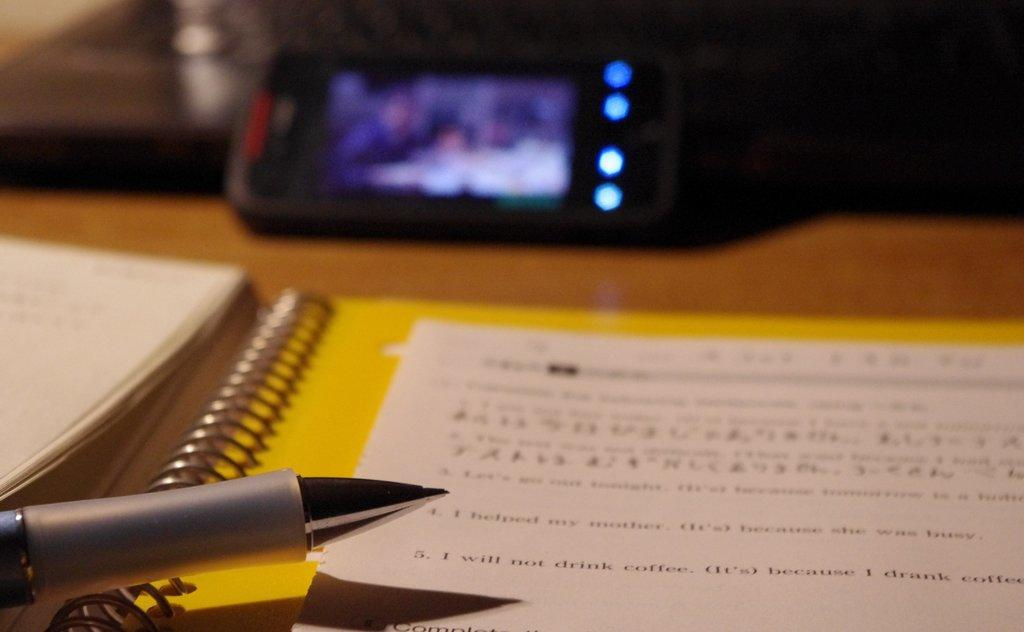pen: (0, 464, 450, 612)
